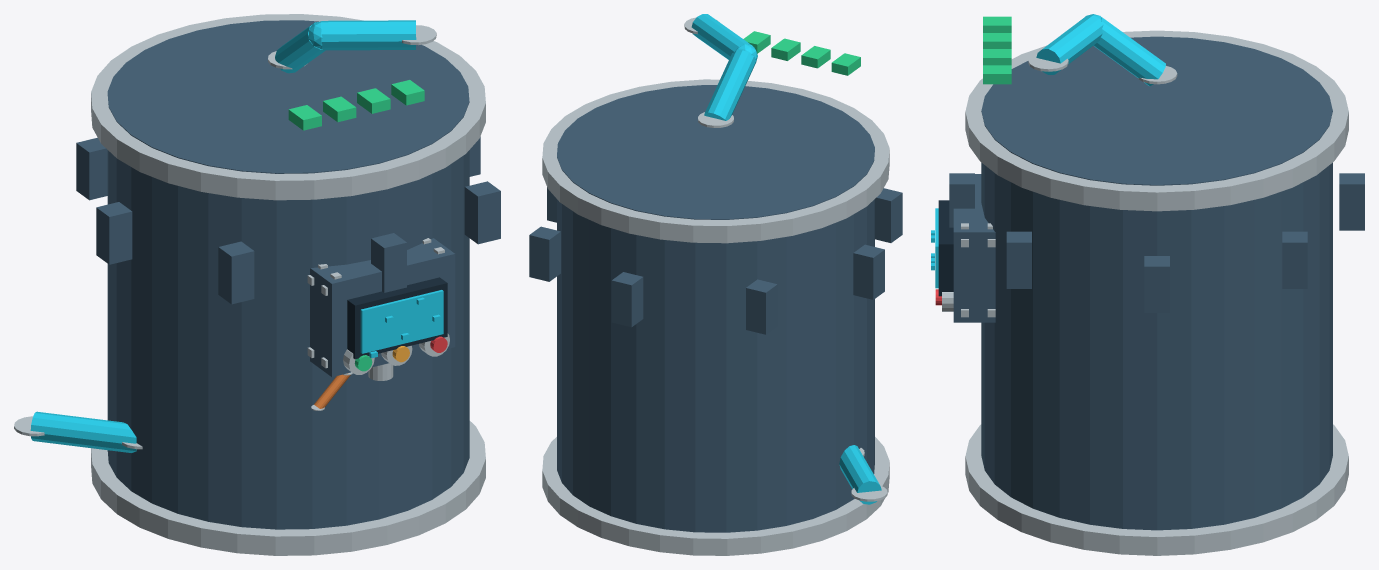
Rendered from 45_L77_CopperSurfaceProtectionModule.fbx.
3 views of the same model, side by side, from view 1: azimuth 30°, elevation 25°; view 2: azimuth 150°, elevation 25°; view 3: azimuth 270°, elevation 25° (orthographic). The views are drawn at different scales.
Visible parts, largest first — view 1: CopperSurfaceProtectionModule; view 2: CopperSurfaceProtectionModule; view 3: CopperSurfaceProtectionModule.
Boxes of the visible parts, bbox=[...] form: CopperSurfaceProtectionModule: bbox=[14, 14, 500, 555]; CopperSurfaceProtectionModule: bbox=[529, 14, 902, 555]; CopperSurfaceProtectionModule: bbox=[931, 14, 1364, 555].
Bounding box in the file's own units: 146 × 159 × 136.
